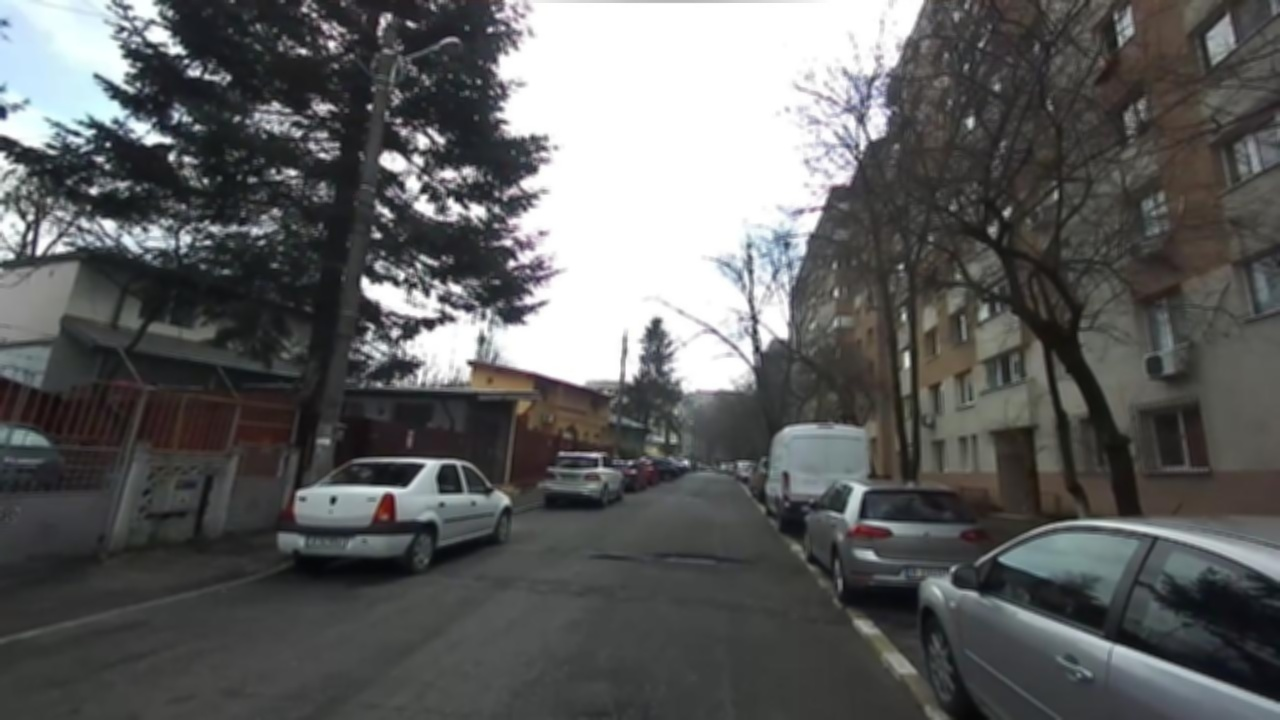pothole: (660, 552, 745, 565), (589, 553, 636, 560)
